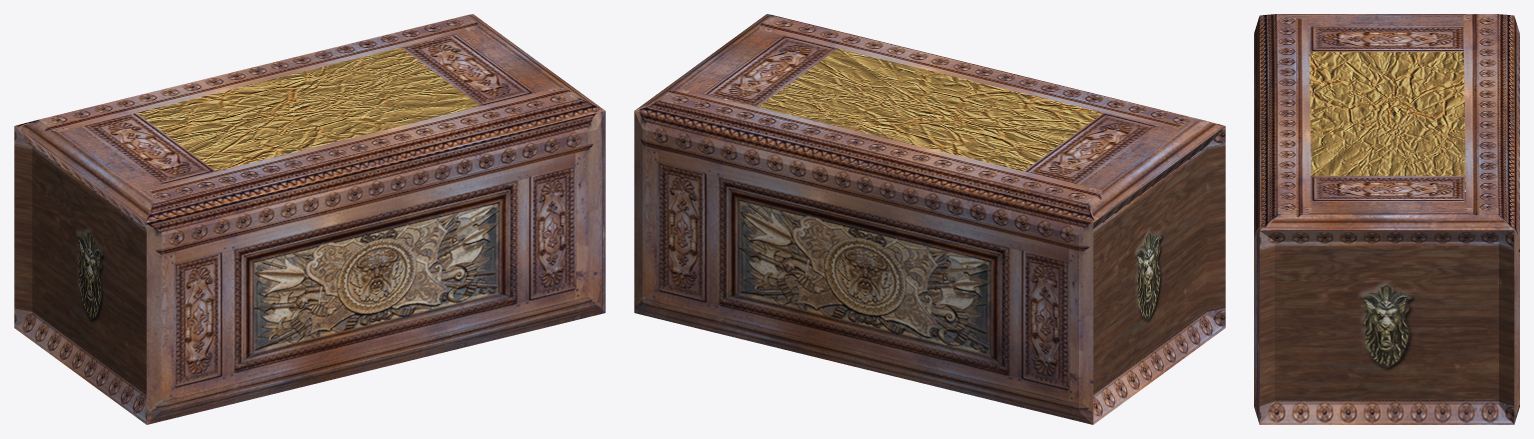
Rendered from Treasure box.fbx.
The picture shows the model from 3 angles, left to right: view 1: azimuth 30°, elevation 25°; view 2: azimuth 150°, elevation 25°; view 3: azimuth 270°, elevation 25°; orthographic projection. The views are drawn at different scales.
Visible parts, largest first — view 1: Tbox; view 2: Tbox; view 3: Tbox.
Part boxes in pixels (x1=…): Tbox: x1=14, y1=14, x2=605, y2=424; Tbox: x1=634, y1=14, x2=1225, y2=424; Tbox: x1=1254, y1=14, x2=1519, y2=424.
Bounding box in the file's own units: 8000 × 3515 × 4177.
Materials: 1 (1 with a texture image).
